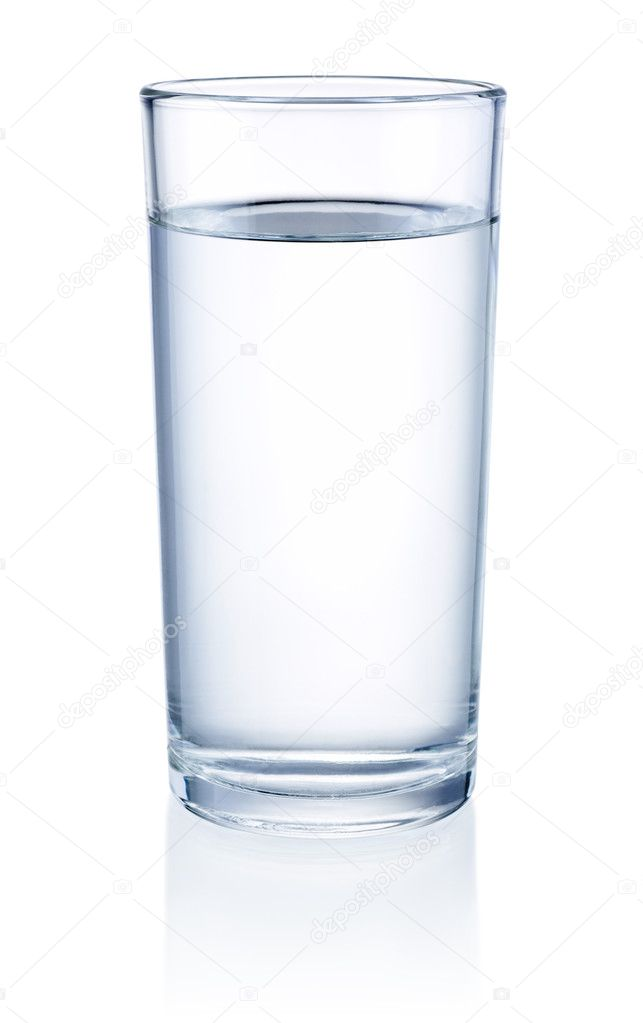glass of water: (143, 90, 478, 829)
